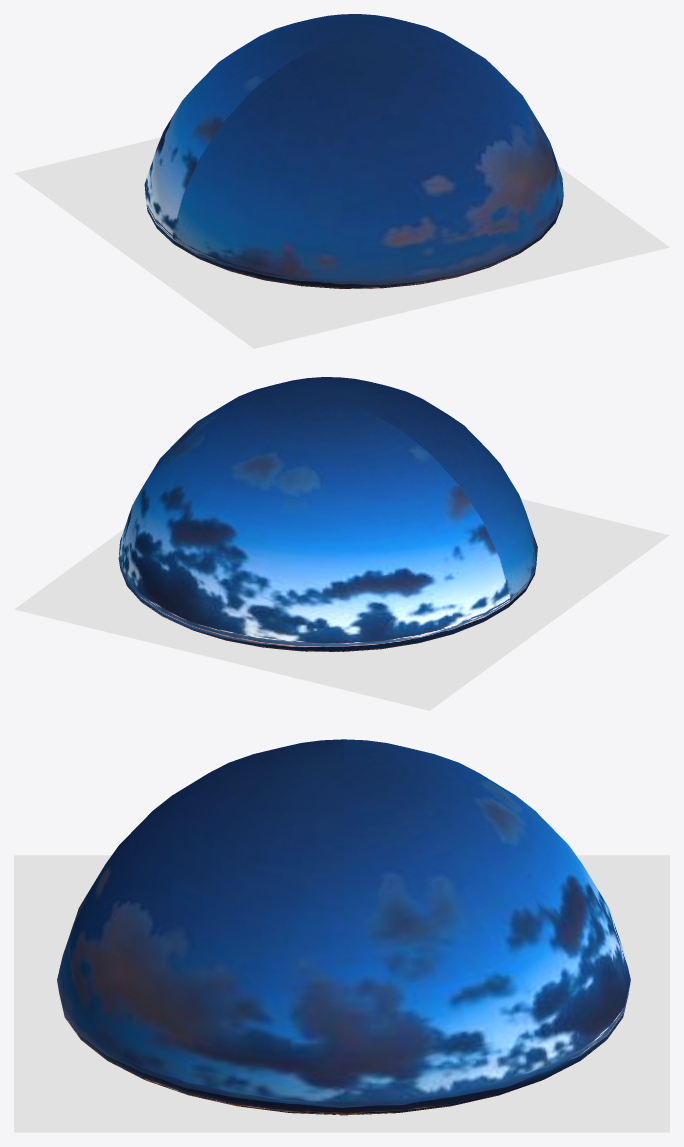
The model's file is city_night.glb.
3 views of the same model, one above another, from view 1: azimuth 30°, elevation 25°; view 2: azimuth 150°, elevation 25°; view 3: azimuth 270°, elevation 25° (orthographic). The views are drawn at different scales.
Visible parts, largest first — view 1: Sphere_Material.010_0, Plane_Material.011_0; view 2: Sphere_Material.010_0, Plane_Material.011_0; view 3: Sphere_Material.010_0, Plane_Material.011_0.
Part boxes in pixels (<box>): Sphere_Material.010_0: <box>144,14,563,288</box>; Plane_Material.011_0: <box>14,137,669,348</box>; Sphere_Material.010_0: <box>118,377,537,651</box>; Plane_Material.011_0: <box>14,499,669,710</box>; Sphere_Material.010_0: <box>57,739,630,1115</box>; Plane_Material.011_0: <box>14,855,669,1132</box>.
Size of the model in its own units: 18.61 by 7.66 by 18.61.
Materials: 11 (10 with a texture image).
